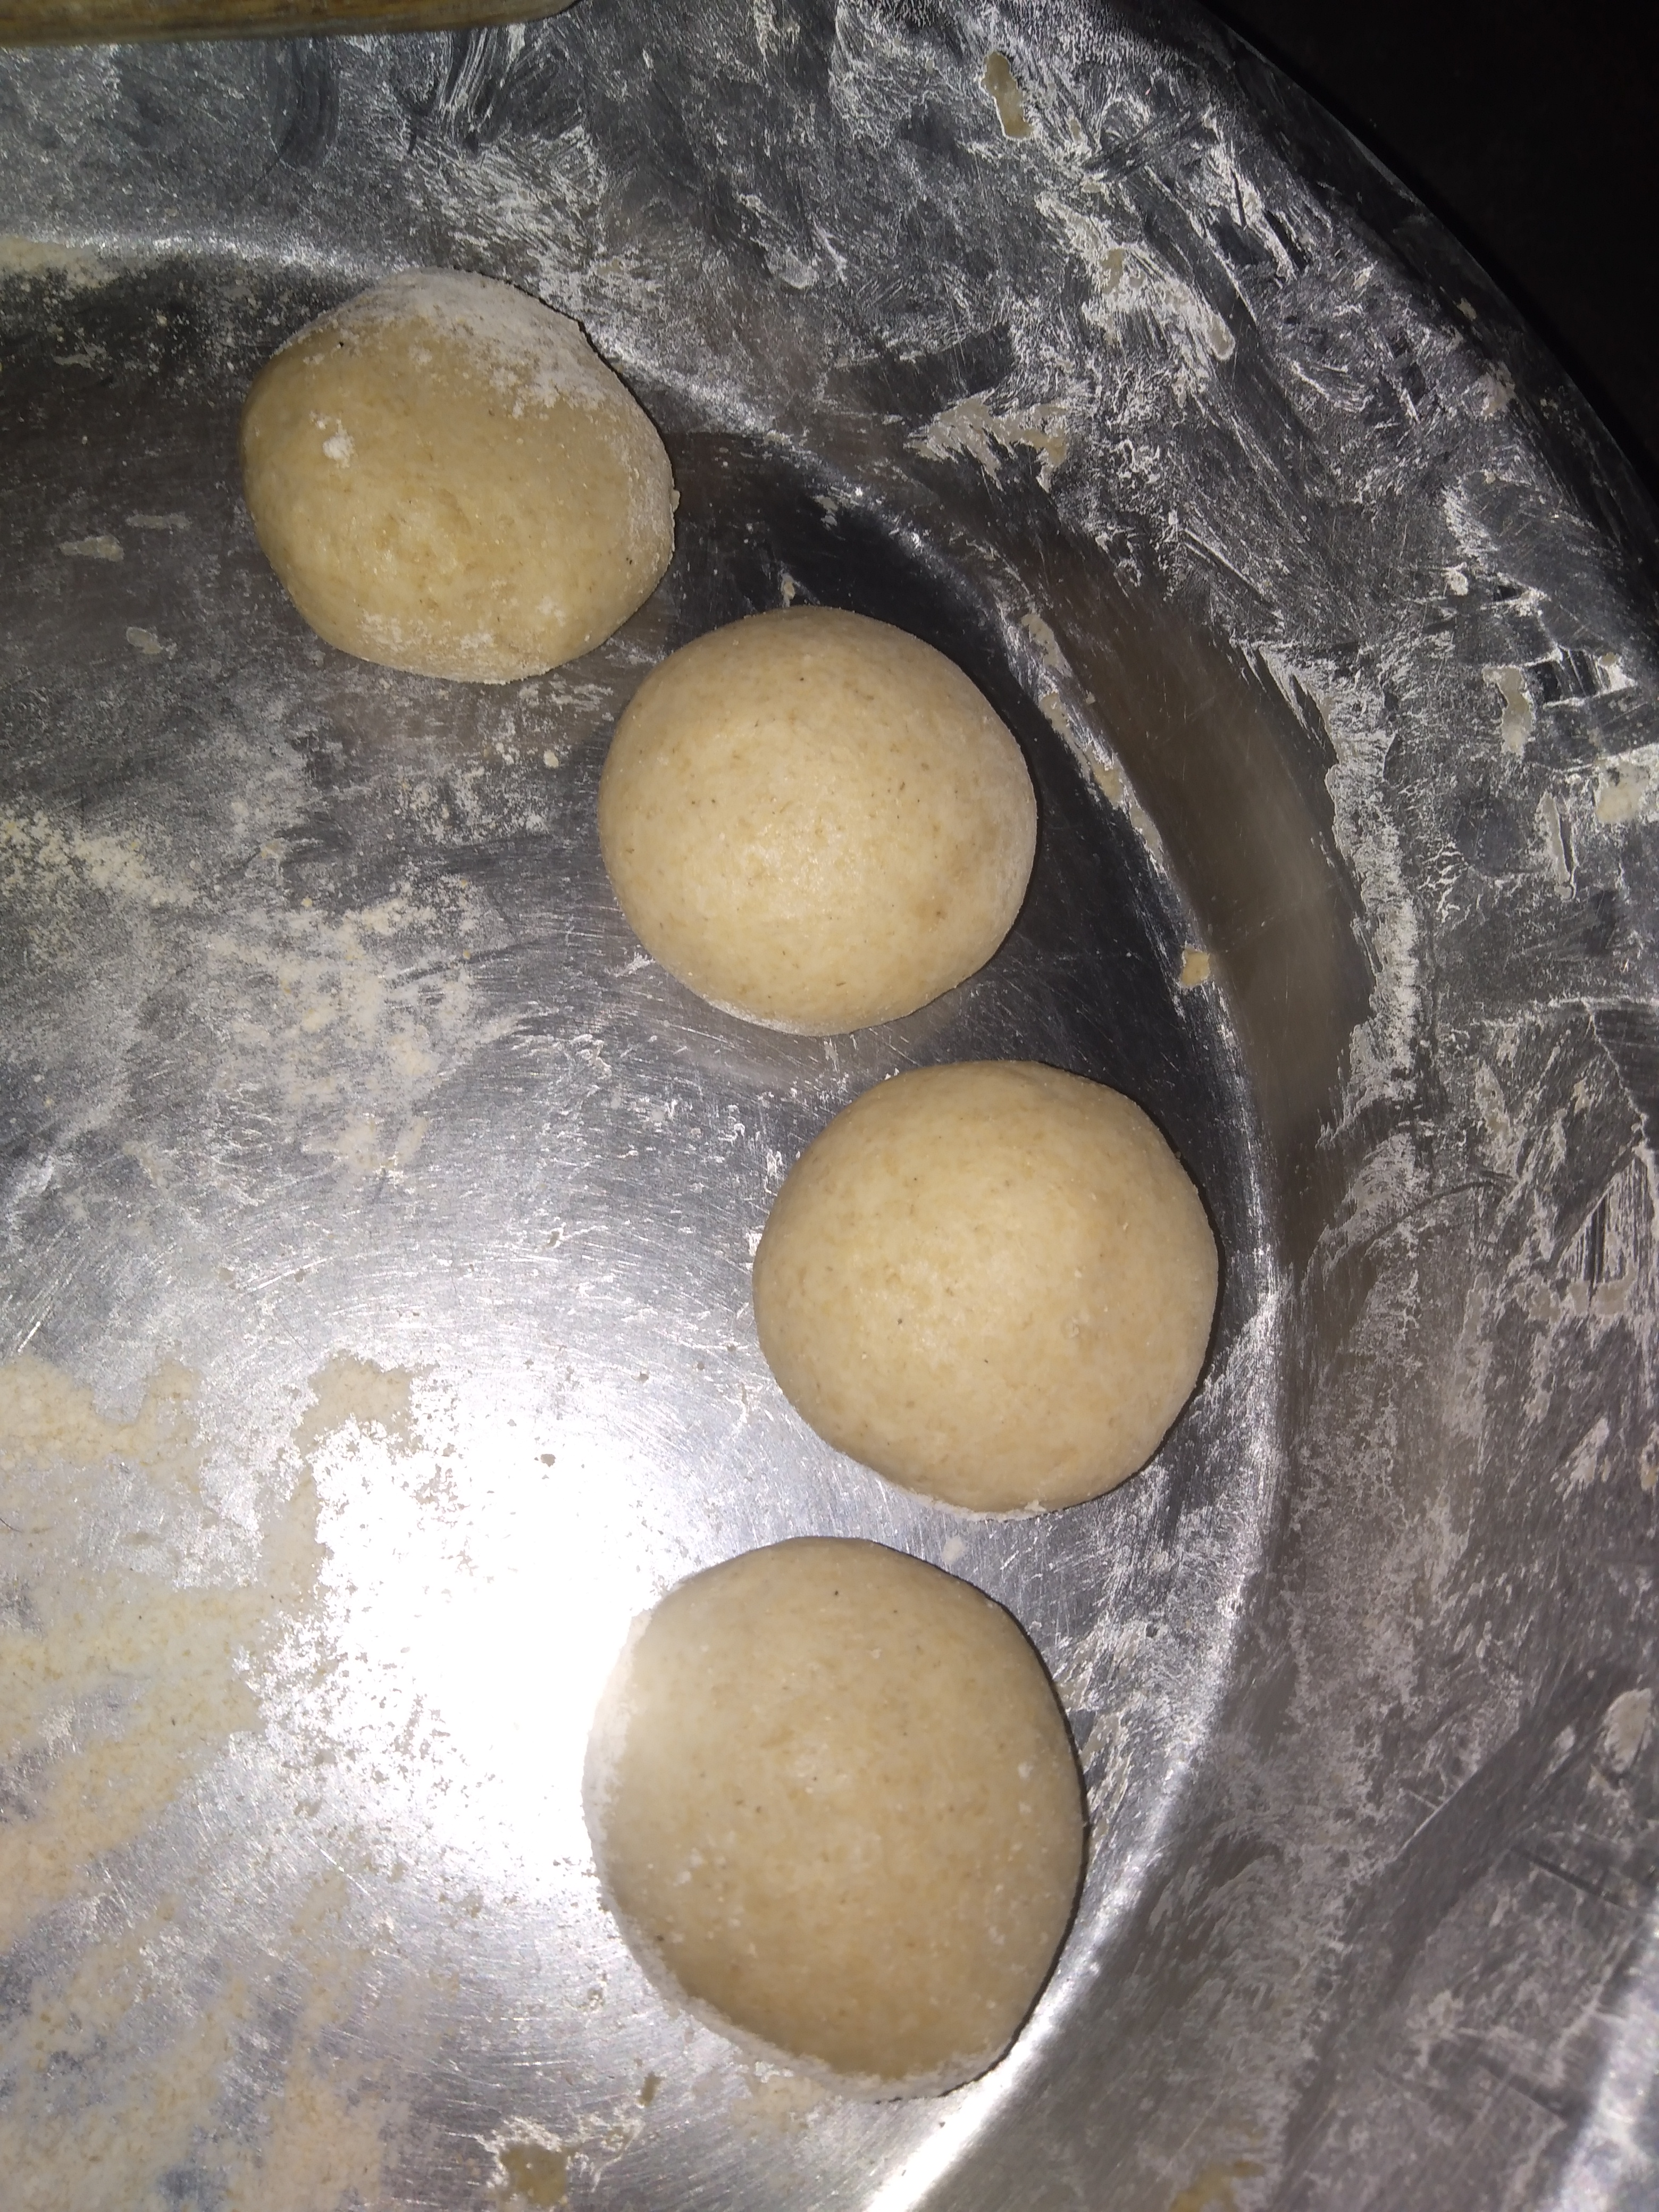food: (221, 237, 1229, 2111)
